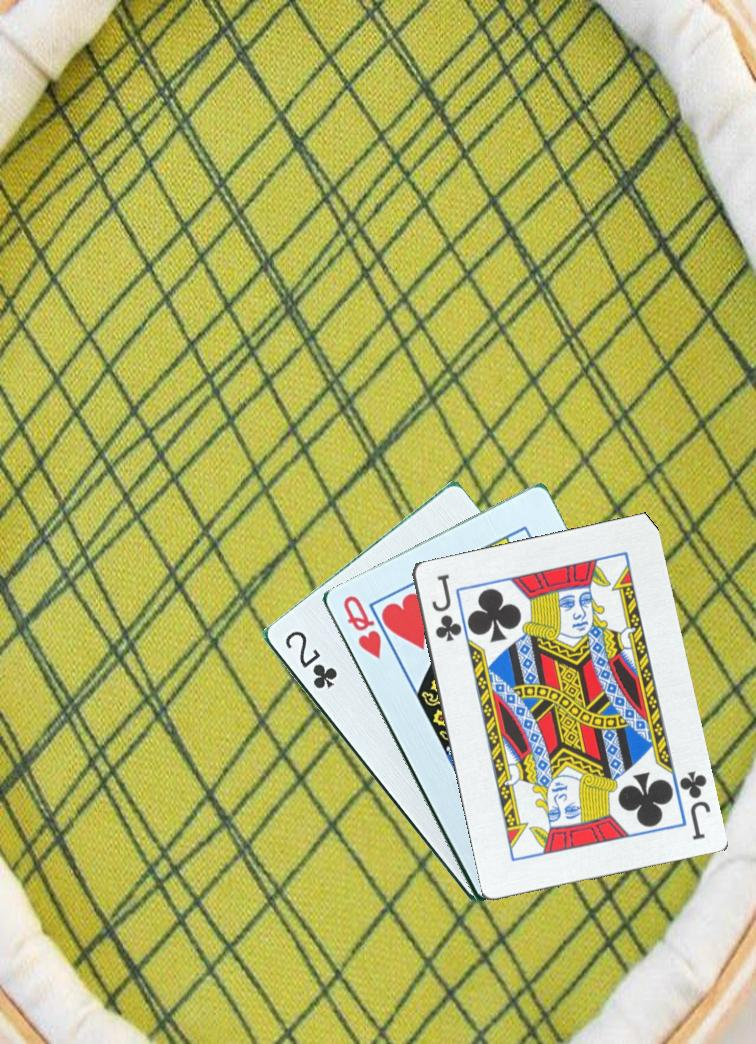2c: (280, 627, 339, 692)
jc: (675, 767, 713, 843), (427, 570, 463, 645)
qh: (338, 591, 384, 662)
